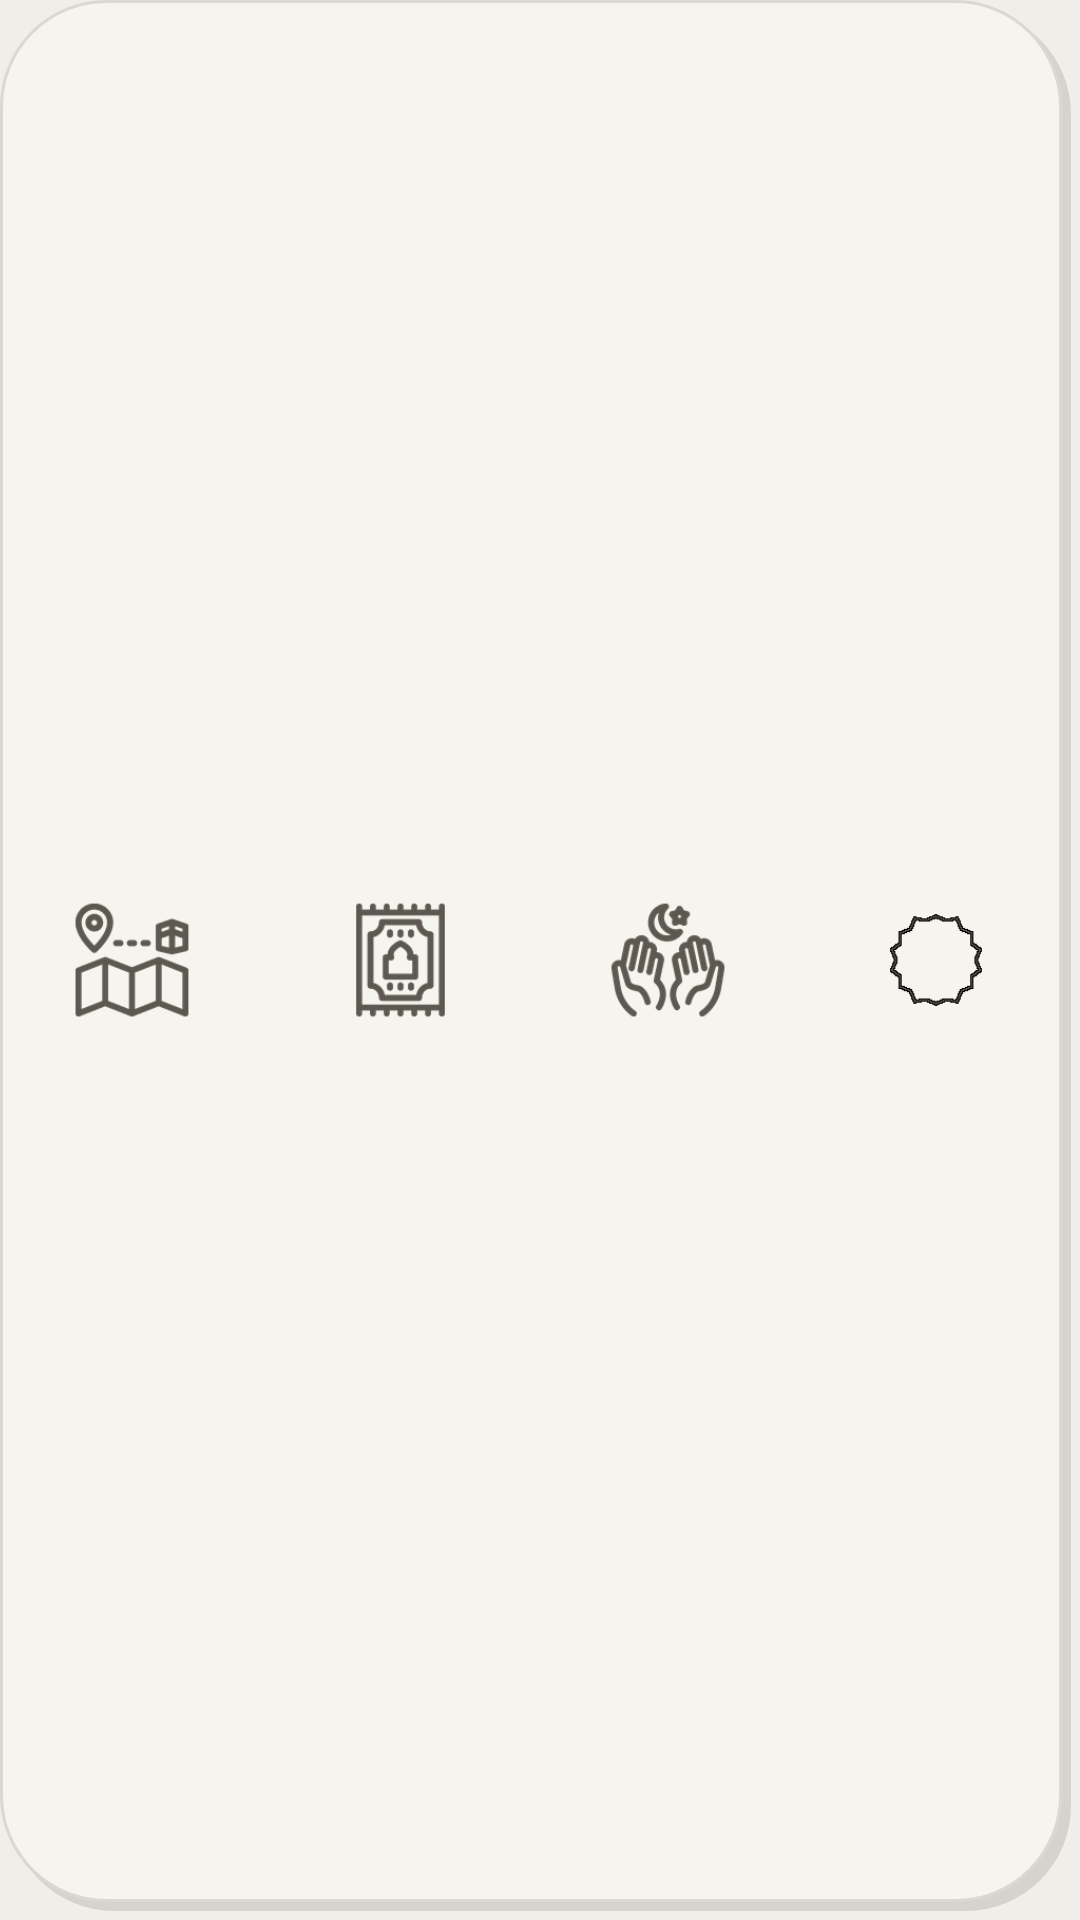

Locate icon controls on the screen. Image size 1080 x 1920, boxes as detection(x1, y1, x2, y2).
Direction: detection(75, 903, 189, 1017)
Dua: detection(611, 903, 725, 1017)
